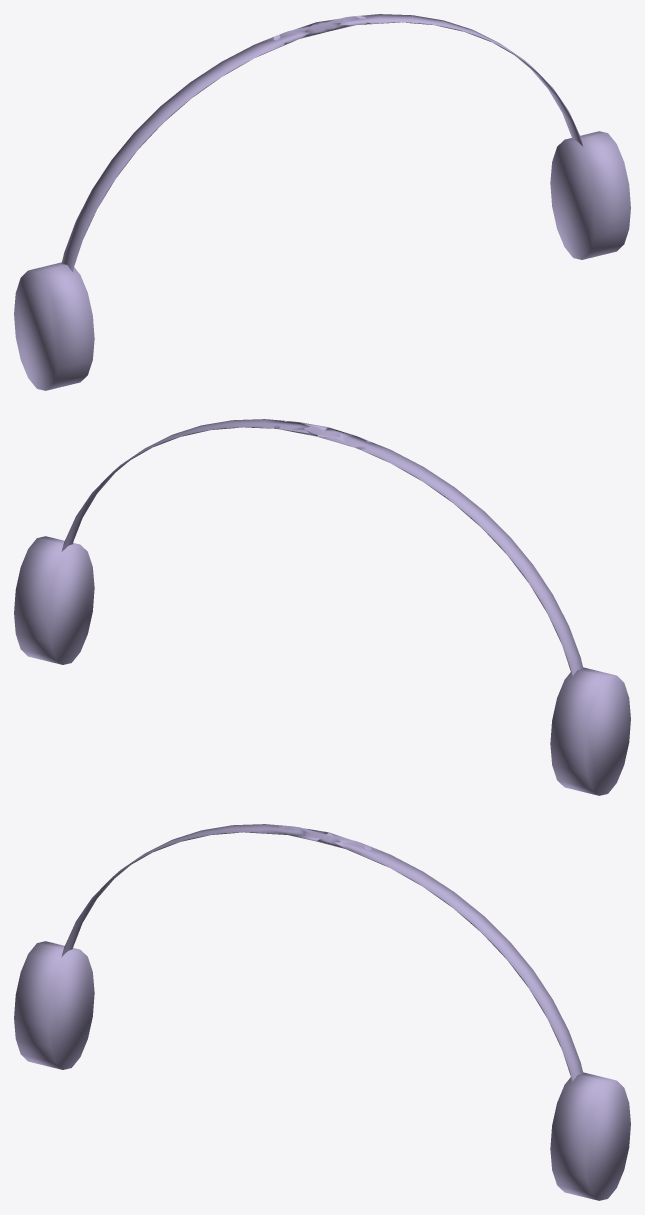
The model's file is prop-Prop_Headphones.22efbb677e.glb.
3 renders of one model, top to bottom at view 1: azimuth 30°, elevation 25°; view 2: azimuth 150°, elevation 25°; view 3: azimuth 330°, elevation 25°, orthographic.
Visible parts, largest first — view 1: Prop_Headphones; view 2: Prop_Headphones; view 3: Prop_Headphones.
Part boxes in pixels (box(x1,y1,x2,y2)): Prop_Headphones: box(14, 14, 630, 390); Prop_Headphones: box(14, 419, 630, 795); Prop_Headphones: box(14, 824, 630, 1200).
Bounding box in the file's own units: 1.15 × 0.5625 × 0.16.
